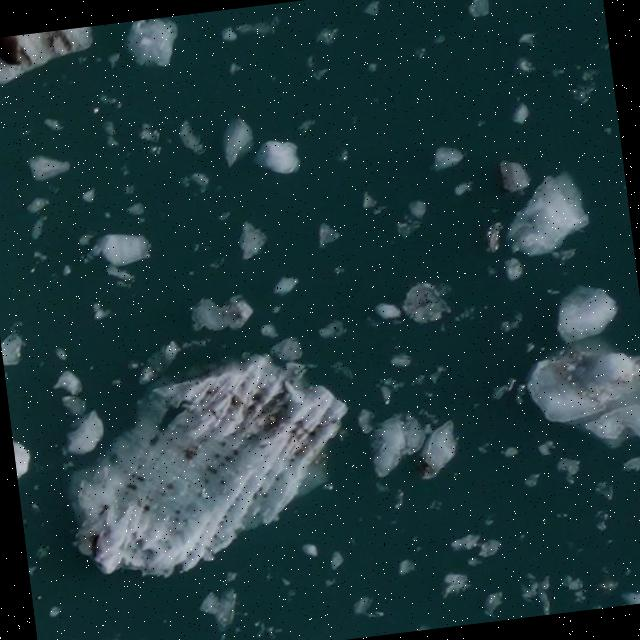seal: (0, 34, 31, 70)
